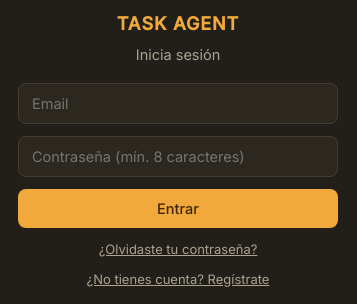
Test: LoginForm - modo registro › muestra el error si el email ya existe
The width and height of the screenshot is (357, 304).
Click the button "¿No tienes cuenta? Regístrate" at [178, 278], box [18,270,338,288]
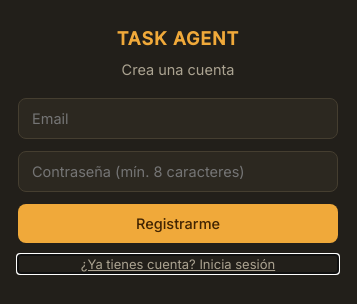
Type "ya@b.com" into the field with placeholder "Email" at [178, 118], box [18,98,338,138]
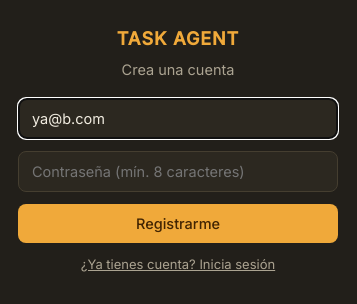
Type "password123" into the password field with placeholder "Contraseña (mín. 8 caracteres)" at [178, 171], box [18,150,338,192]
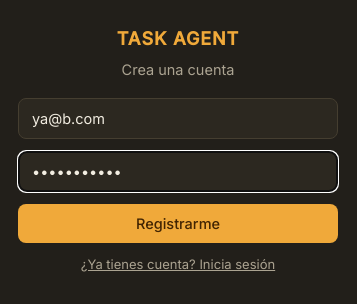
Click the button "Registrarme" at [178, 223], box [18,204,338,242]
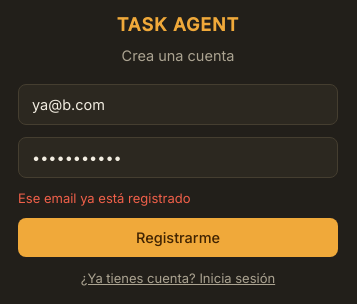
Expected: the text "Ese email ya está registrado" is shown, [18,190,190,206]
